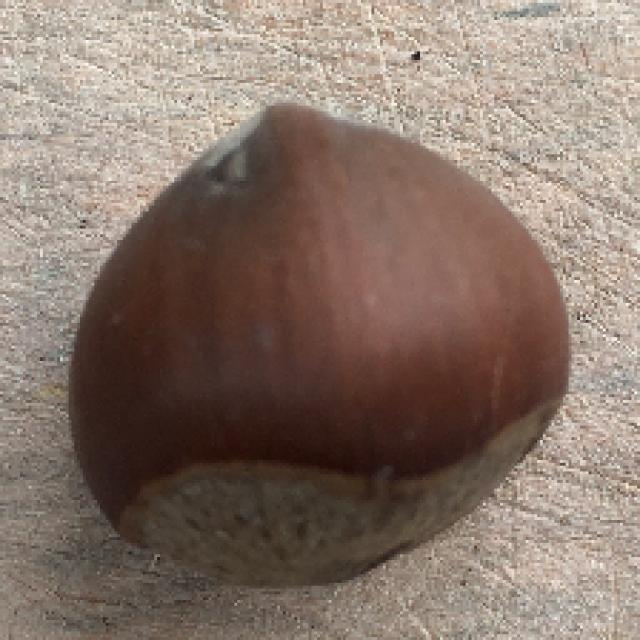qualityHazelnut: (70, 107, 582, 593)
